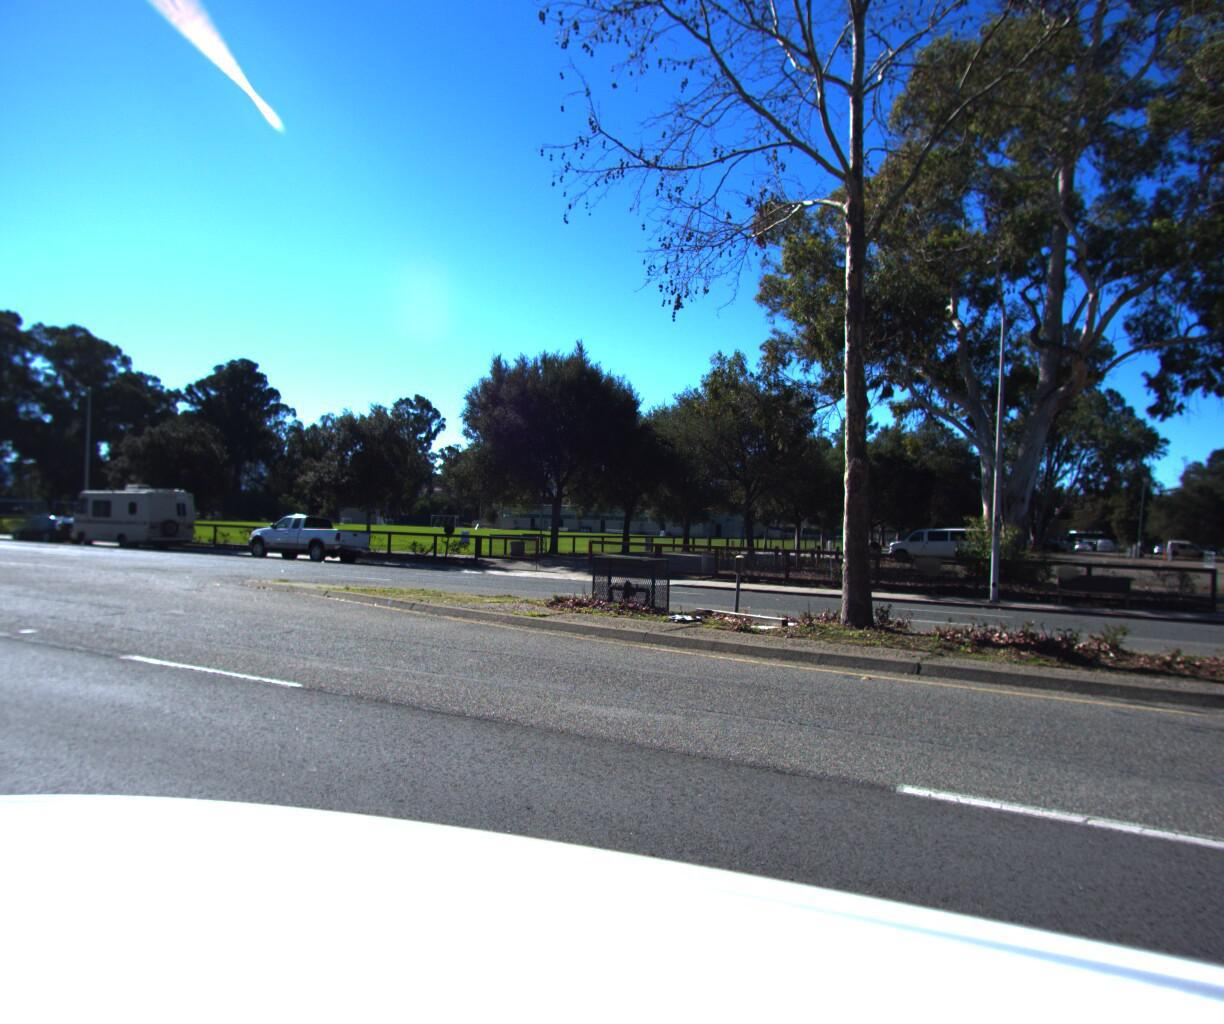car: (239, 507, 381, 564), (3, 511, 96, 541)
other_vehicle: (63, 476, 207, 546)
